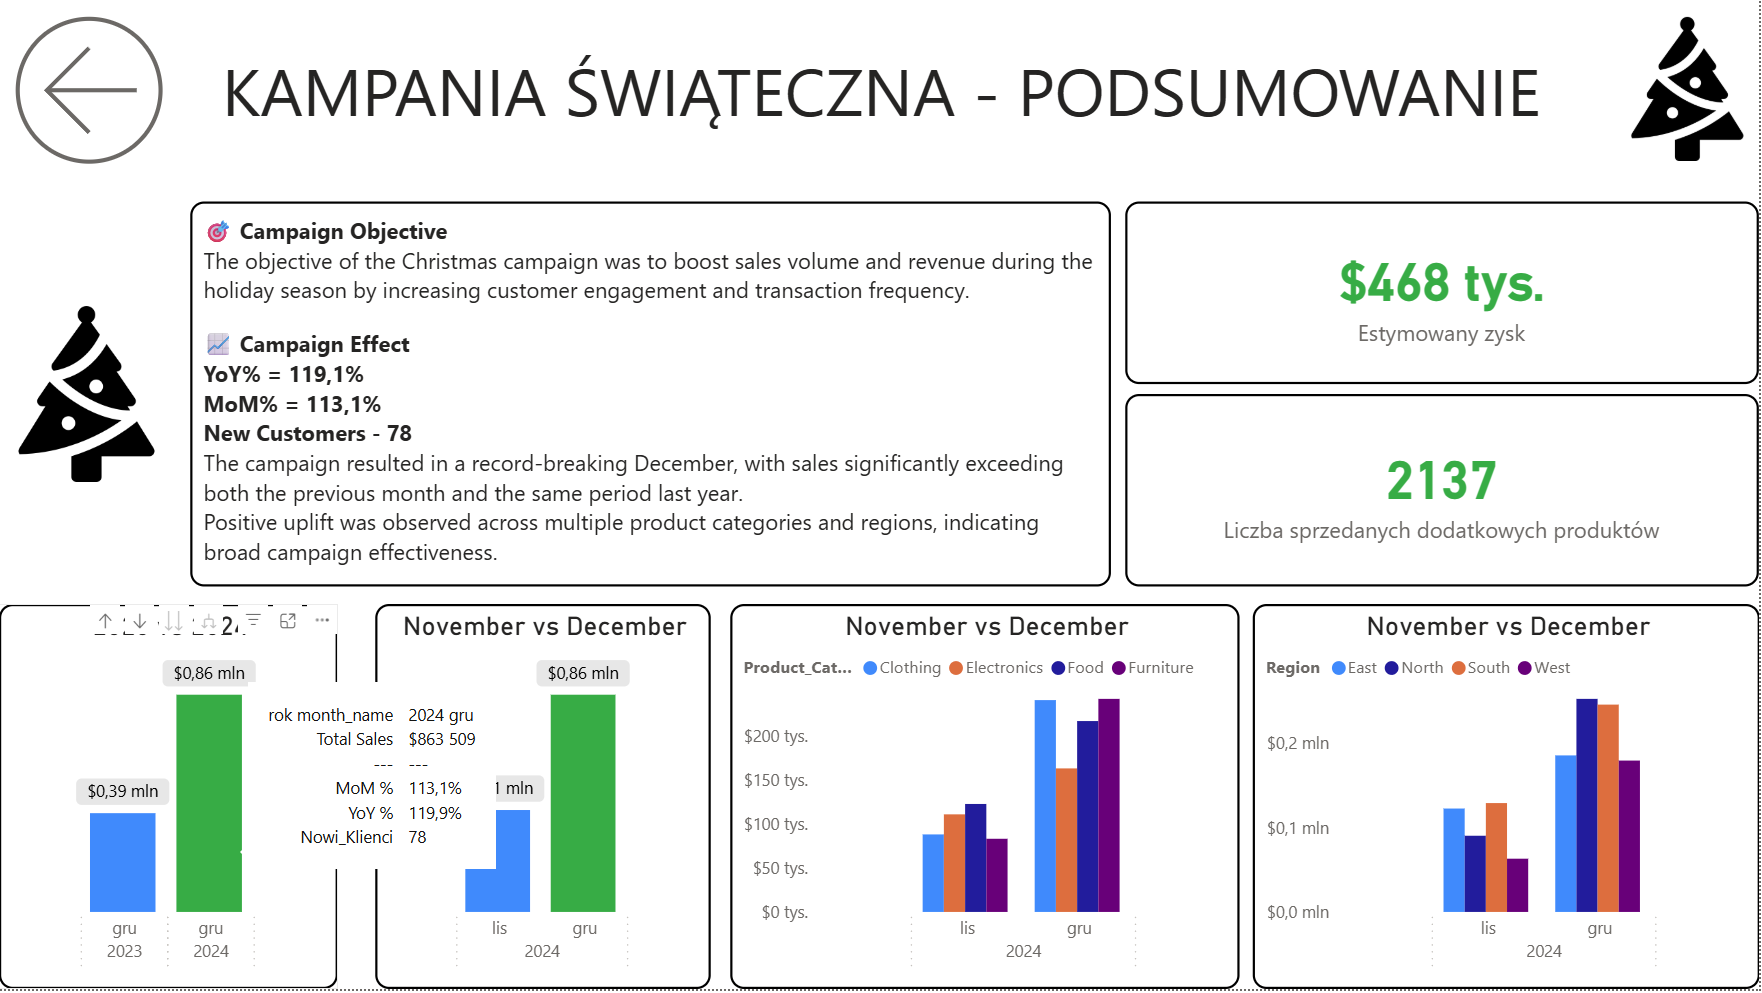

What the dashboard file says about the page in this screenshot:
{"tool":"powerbi","page":{"name":"Kampania świateczna","canvas":[1280,720],"ordinal":3},"visuals":[{"type":"actionButton","box":[0,0,131.1,132.9],"z":0},{"type":"image","box":[1175.6,1.4,104.5,126.7],"z":1},{"type":"clusteredColumnChart","title":"2023 vs 2024","fields":{"Category":["Calendar.rok Hierarchia.rok","Calendar.rok Hierarchia.month_name"],"Y":["total_sales.Total Sales"]},"box":[0,440.3,246.3,280],"z":3},{"type":"clusteredColumnChart","title":"November vs December","fields":{"Category":["Calendar.rok Hierarchia.rok","Calendar.rok Hierarchia.month_name"],"Y":["total_sales.Total Sales"]},"box":[273.8,440.3,243.6,280],"z":4},{"type":"textbox","box":[139.1,147.1,669.8,280],"z":5},{"type":"textbox","box":[131.1,28.4,1021.5,88.6],"z":6},{"type":"clusteredColumnChart","title":"November vs December","fields":{"Category":["Calendar.rok Hierarchia.rok","Calendar.rok Hierarchia.month_name"],"Y":["total_sales.Total Sales"],"Series":["total_sales.Product_Category"]},"box":[531.6,440.3,370.3,280],"z":7},{"type":"clusteredColumnChart","title":"November vs December","fields":{"Category":["Calendar.rok Hierarchia.rok","Calendar.rok Hierarchia.month_name"],"Y":["total_sales.Total Sales"],"Series":["total_sales.Region"]},"box":[911.6,440.3,368.6,280],"z":8},{"type":"card","fields":{"Values":["total_sales.Estymowany zysk"]},"box":[819.3,146.9,460.7,132.9],"z":9},{"type":"card","fields":{"Values":["total_sales.Liczba sprzedanych dodatkowych produktów"]},"box":[819.5,287,460.7,140],"z":10},{"type":"image","box":[0,147.1,127.6,280],"z":11}]}

Visuals, with their boxes in screenshot pixels (x1, y1, x2, y2), scaled from the page's 1280x720 canvas onto the 1762x993 screenshot:
actionButton: region(0, 0, 180, 183)
image: region(1618, 2, 1761, 177)
"2023 vs 2024" clusteredColumnChart: region(0, 607, 339, 992)
"November vs December" clusteredColumnChart: region(377, 607, 712, 992)
textbox: region(191, 203, 1114, 589)
textbox: region(180, 39, 1587, 161)
"November vs December" clusteredColumnChart: region(732, 607, 1242, 992)
"November vs December" clusteredColumnChart: region(1255, 607, 1761, 992)
card - total_sales.Estymowany zysk: region(1128, 203, 1761, 386)
card - total_sales.Liczba sprzedanych dodatkowych produktów: region(1128, 396, 1761, 589)
image: region(0, 203, 176, 589)
